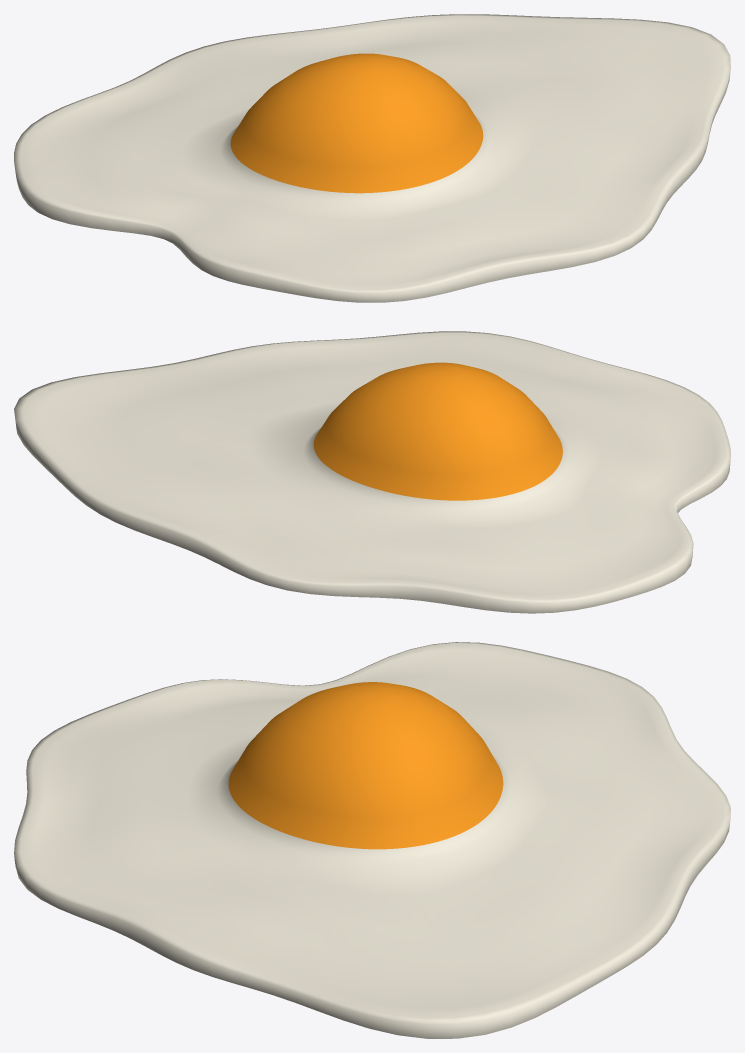
The picture shows the model from 3 angles, top to bottom: view 1: azimuth 30°, elevation 25°; view 2: azimuth 150°, elevation 25°; view 3: azimuth 270°, elevation 25°; orthographic projection. The views are drawn at different scales.
Visible parts, largest first — view 1: NEW329_Whole_fried_egg_LOD0; view 2: NEW329_Whole_fried_egg_LOD0; view 3: NEW329_Whole_fried_egg_LOD0.
Part boxes in pixels (x1,y1,x2,y2): NEW329_Whole_fried_egg_LOD0: [14, 14, 730, 302]; NEW329_Whole_fried_egg_LOD0: [14, 331, 730, 613]; NEW329_Whole_fried_egg_LOD0: [14, 642, 730, 1038].
Bounding box in the file's own units: 0.109 × 0.0165 × 0.0865.
